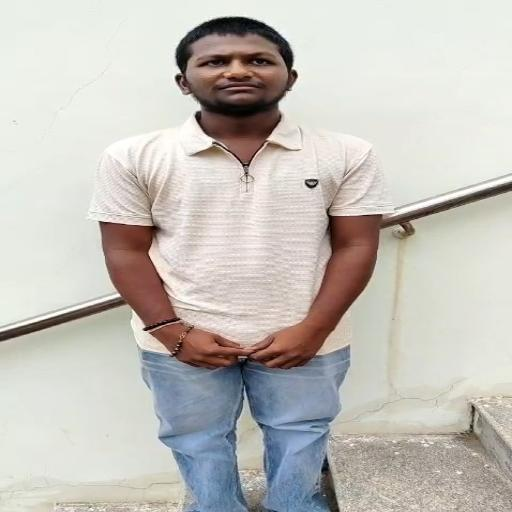employee-detectio-system: (77, 15, 395, 292)
